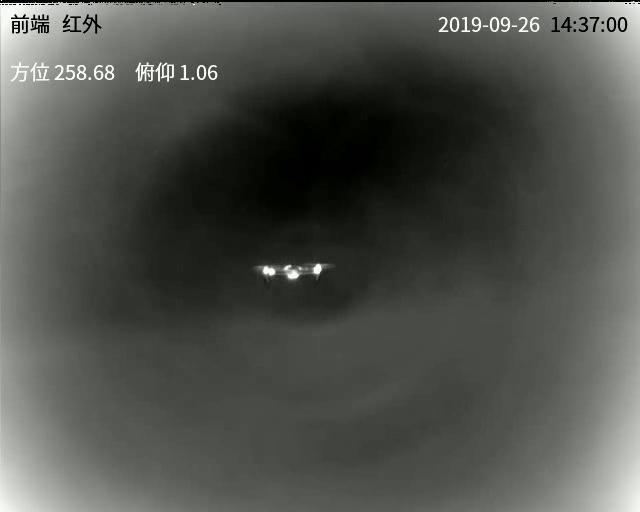DRONE: (260, 260, 326, 284)
